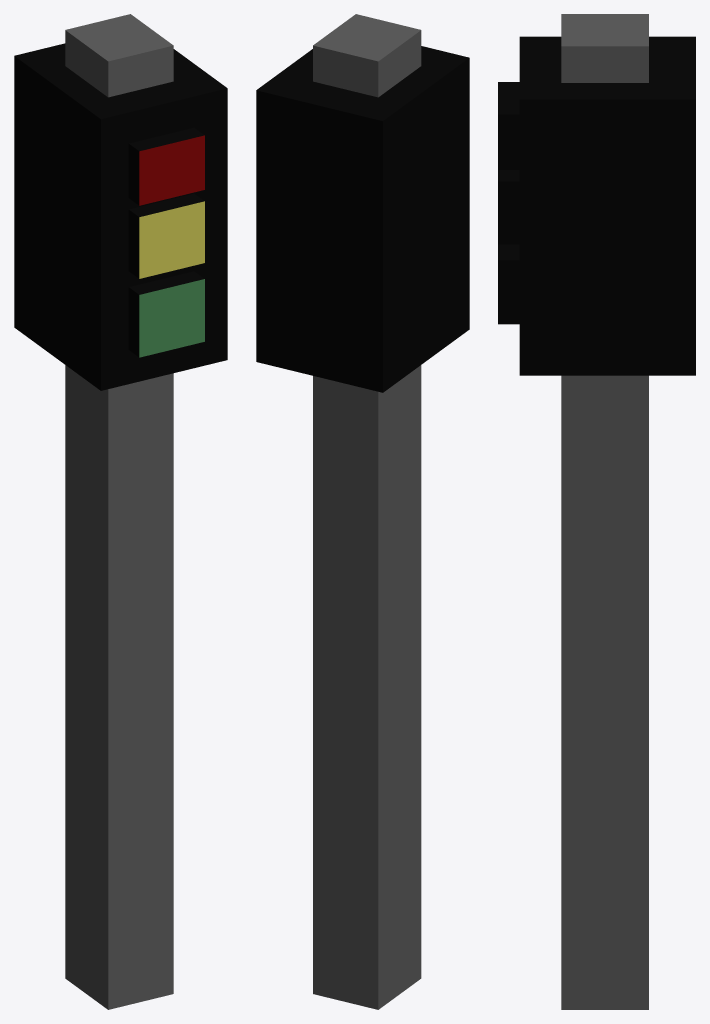
Rendered from Traffic_Light_1.fbx.
3 views of the same model, side by side, from view 1: azimuth 30°, elevation 25°; view 2: azimuth 150°, elevation 25°; view 3: azimuth 270°, elevation 25° (orthographic).
Parts seen in each view (by area): view 1: pCube3; view 2: pCube3; view 3: pCube3.
Boxes of the visible parts, x1=… form: pCube3: x1=14, y1=14, x2=227, y2=1009; pCube3: x1=256, y1=14, x2=469, y2=1009; pCube3: x1=498, y1=14, x2=695, y2=1009.
Size of the model in its own units: 37.7 by 269 by 50.15.
